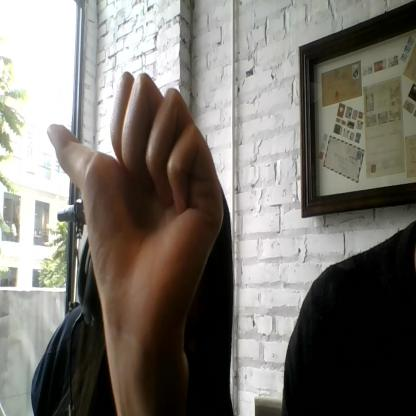right: (47, 70, 221, 338)
